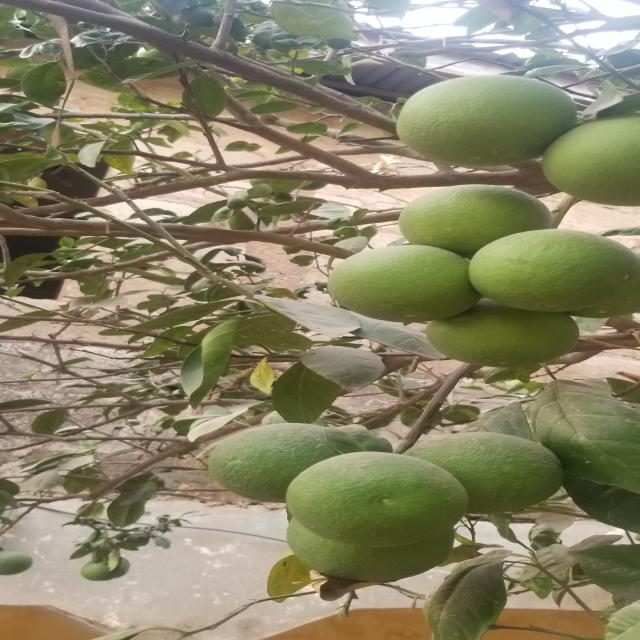Unripe: (395, 68, 555, 180), (460, 228, 637, 328), (196, 414, 366, 516), (402, 422, 562, 521), (294, 449, 460, 541), (307, 248, 477, 330), (375, 186, 565, 251), (418, 303, 591, 373), (548, 108, 634, 230), (288, 522, 434, 592), (307, 343, 392, 406)
